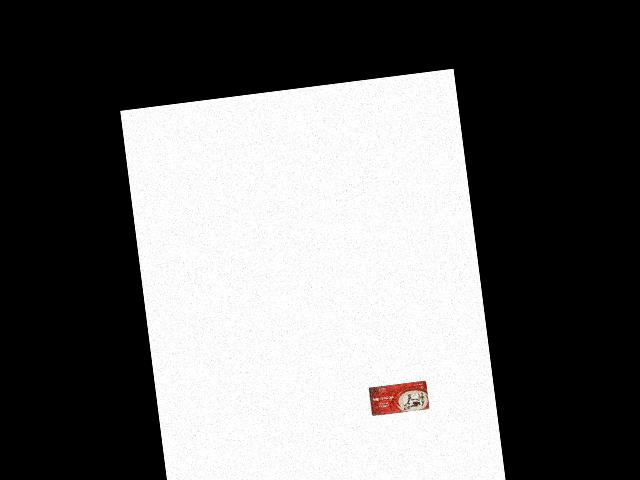chocolate: (366, 378, 429, 416)
